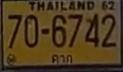0: (24, 14, 38, 47)
2: (101, 13, 115, 46)
4: (84, 13, 98, 46)
6: (51, 14, 65, 47)
7: (7, 14, 21, 48), (68, 14, 82, 46)
TAK: (49, 51, 74, 64)
